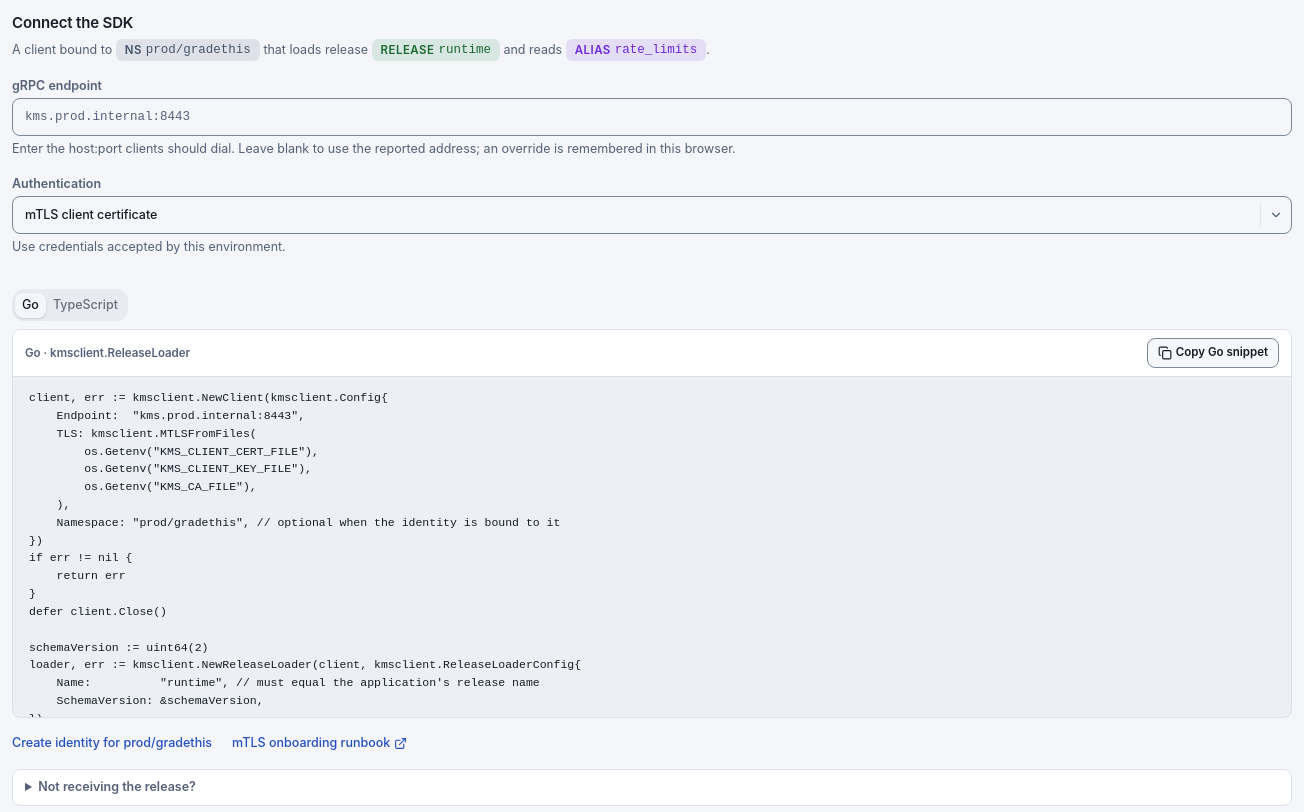
Test case: ConnectSdkPanel › offers either accepted credential method without changing transport security
Click the dropdown named "Authentication".
click(91, 215)  # box left=12, top=196, right=1292, bottom=234
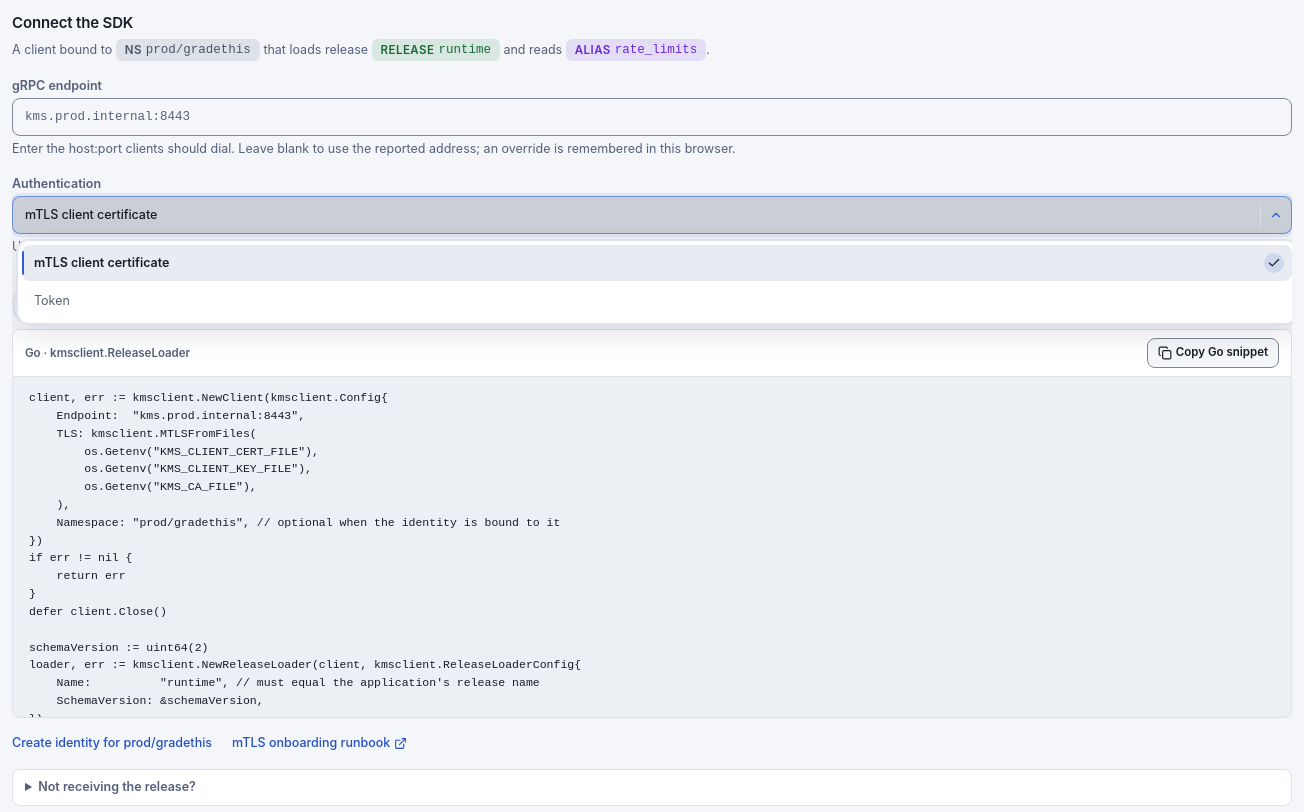
Click the option "Token".
click(52, 301)  # box left=34, top=293, right=70, bottom=308
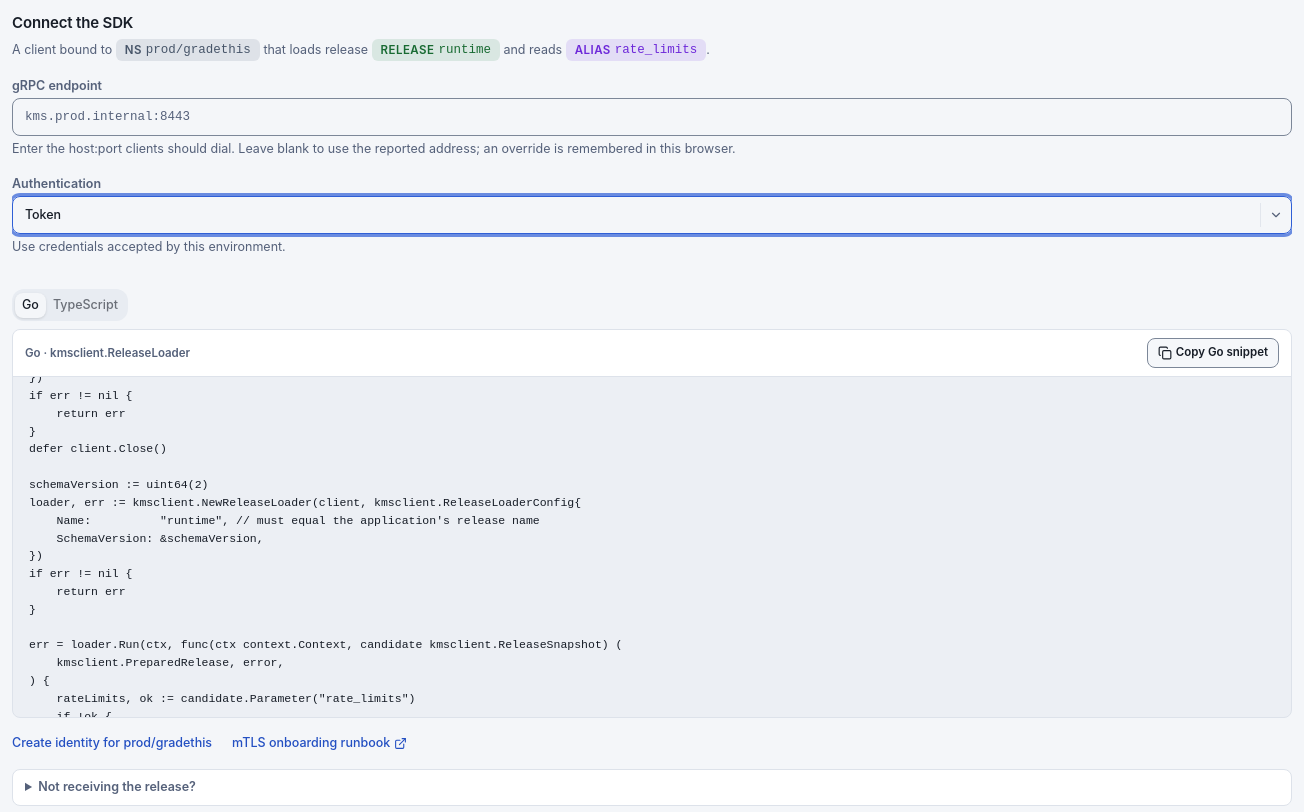
Expected: the text "kmsclient.TLSFromFiles(" is shown, left=29, top=377, right=622, bottom=717
Expected: the text "os.Getenv(\"KMS_TOKEN\")" is shown, left=29, top=377, right=622, bottom=717
